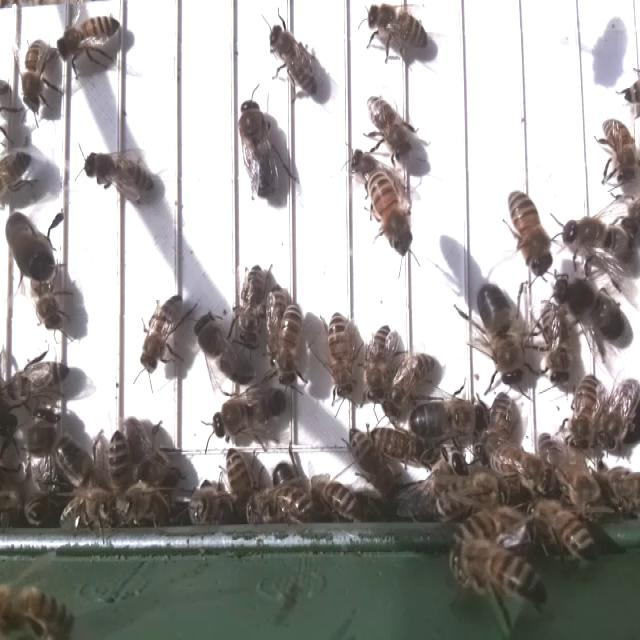Drone: (476, 278, 526, 389), (553, 271, 628, 343), (193, 309, 254, 389), (238, 94, 282, 202), (210, 383, 293, 438), (558, 212, 638, 263), (409, 397, 489, 442)
Worker: (136, 292, 186, 377), (504, 187, 551, 277), (267, 21, 320, 100), (368, 172, 416, 258), (82, 149, 154, 198), (57, 12, 127, 61), (598, 111, 640, 190), (538, 300, 574, 389), (343, 423, 390, 491), (367, 90, 412, 158), (361, 319, 397, 404), (568, 367, 602, 455), (237, 258, 268, 352), (386, 350, 438, 406), (326, 311, 357, 404), (275, 300, 306, 387), (20, 35, 51, 118), (14, 356, 75, 394)
